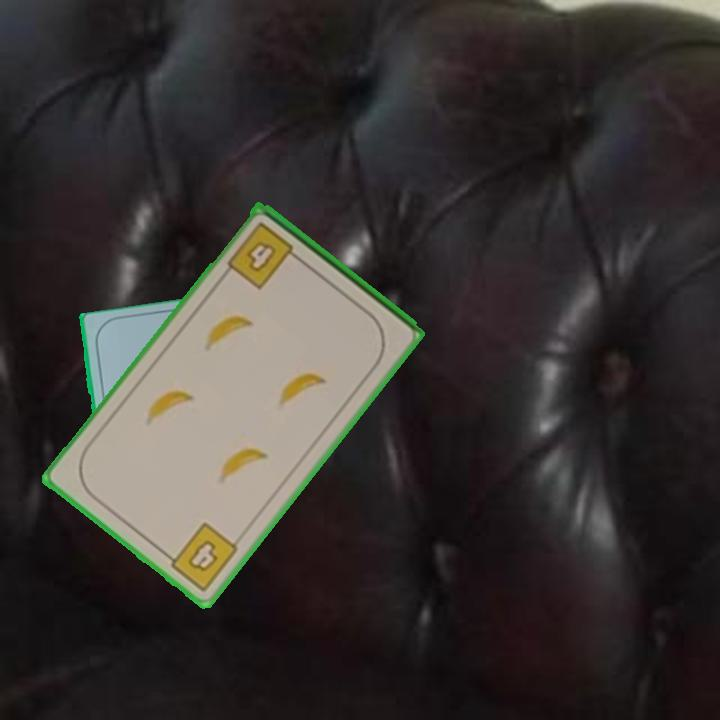4b: (159, 519, 241, 595), (223, 218, 304, 293)
